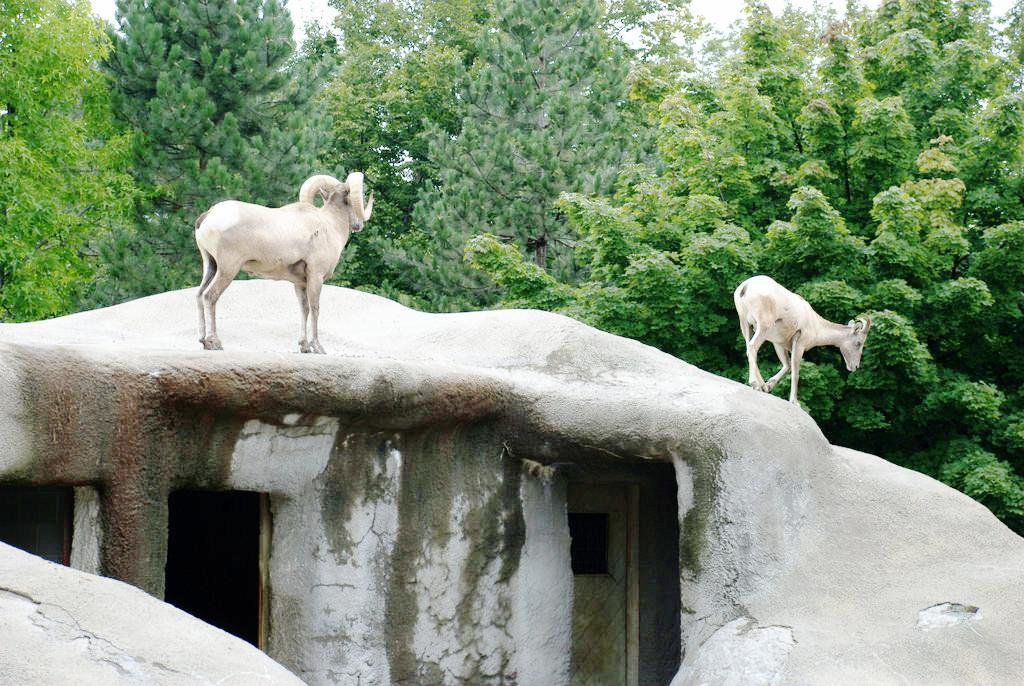Sheep: (196, 174, 372, 355)
